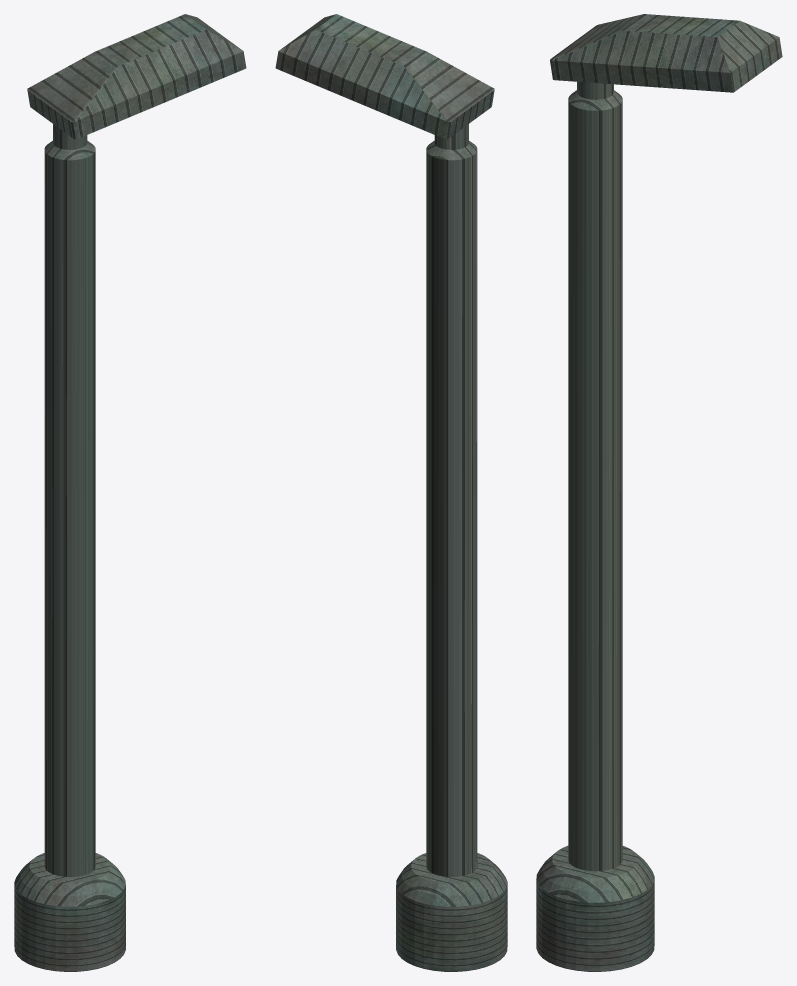
The model's file is Lightpole.fbx.
The picture shows the model from 3 angles, left to right: view 1: azimuth 30°, elevation 25°; view 2: azimuth 150°, elevation 25°; view 3: azimuth 330°, elevation 25°; orthographic projection. The views are drawn at different scales.
Parts seen in each view (by area): view 1: Cylinder, Cube; view 2: Cylinder, Cube; view 3: Cylinder, Cube.
Part boxes in pixels (x1,y1,x2,y2): Cylinder: (14, 124, 125, 971); Cube: (27, 14, 246, 139); Cylinder: (396, 124, 507, 971); Cube: (275, 14, 494, 139); Cylinder: (536, 81, 654, 971); Cube: (550, 14, 782, 92).
Bounding box in the file's own units: 580 × 2465 × 278.
